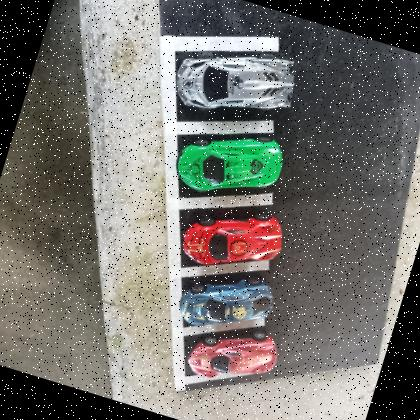Car: (168, 28, 304, 135), (171, 116, 289, 212), (178, 190, 290, 284), (174, 260, 278, 346), (185, 314, 283, 396)
